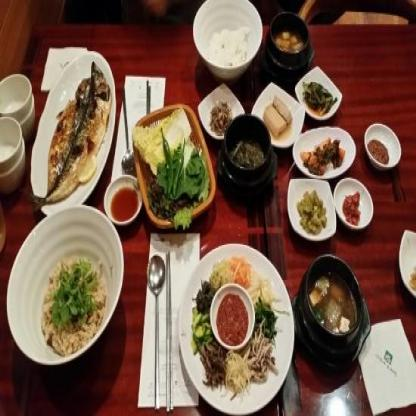Peixe: (35, 62, 119, 210)
